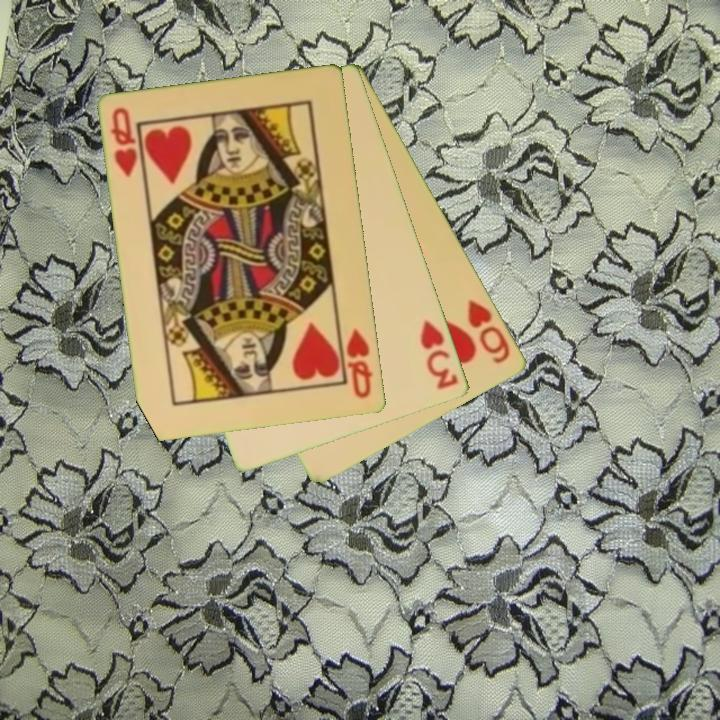3h: (417, 317, 462, 393)
6h: (464, 296, 514, 367)
Qh: (337, 322, 376, 402), (108, 104, 141, 180)
